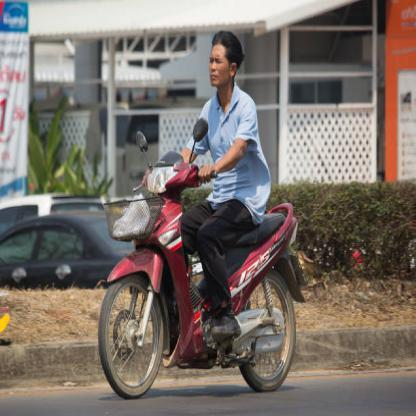Motorcycle: (100, 134, 303, 403)
